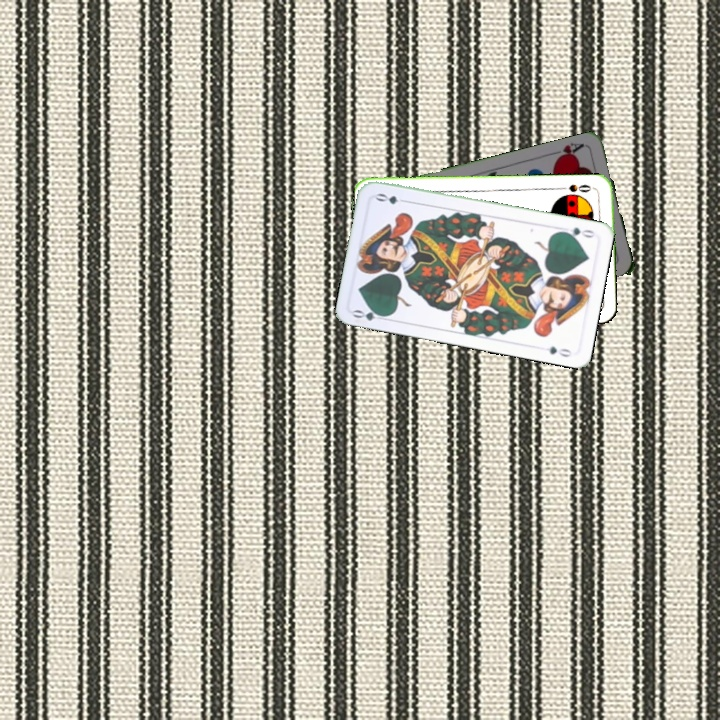GO: (349, 304, 390, 323), (557, 223, 598, 240)
HA: (547, 139, 587, 164)
SO: (565, 180, 594, 195)
